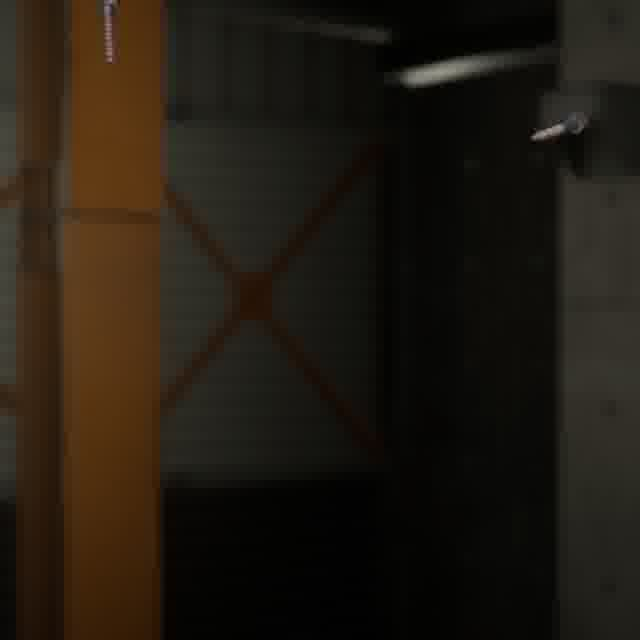bolt: (89, 0, 124, 69), (527, 108, 591, 145)
